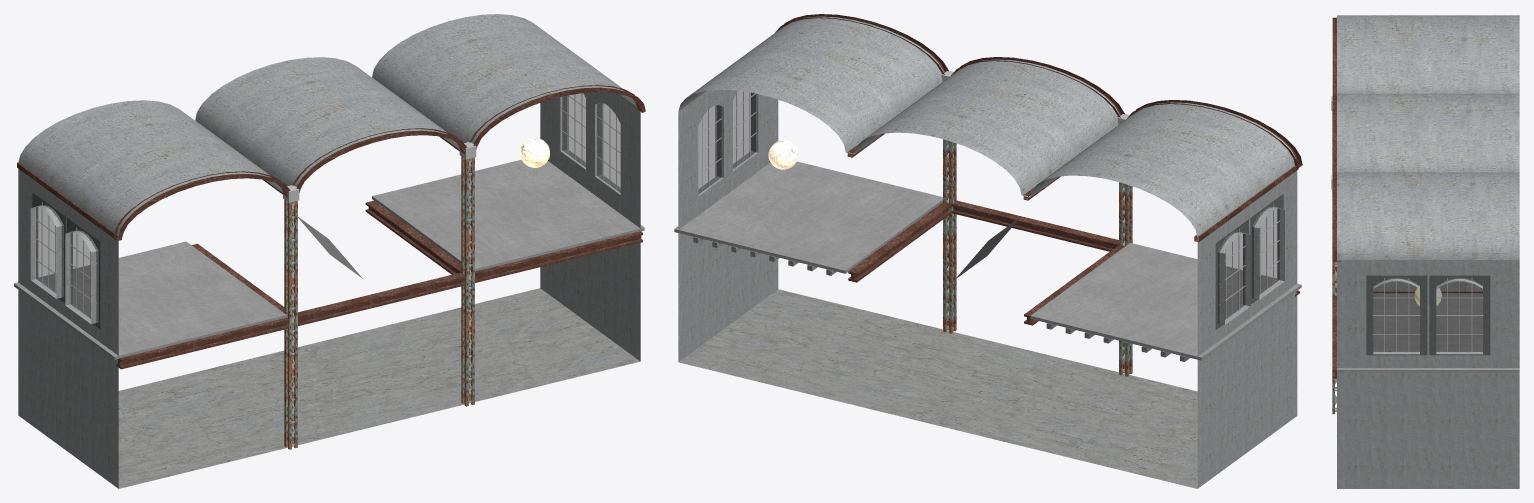
File: testwarehouse.fbx
The picture shows the model from 3 angles, left to right: view 1: azimuth 30°, elevation 25°; view 2: azimuth 150°, elevation 25°; view 3: azimuth 270°, elevation 25°; orthographic projection. The views are drawn at different scales.
Parts seen in each view (by area): view 1: Roof, Floor, Wall_left1, Floor_up_left, Wall_left, Floor_up_right, Pillar_corner4, Pillar_Cap2_Pillar_corner4, Crossbar_middle, crossbar_left1, crossbar_right1, windowGlass3 (+9 smaller); view 2: Roof, Floor, Wall_left1, Floor_up_left, Wall_left, Floor_up_right, Pillar_corner4, Crossbar_middle, windowGlass3, windowGlass4, crossbar_middle_side, windowGlass1 (+8 smaller); view 3: Roof, Wall_left, Floor_up_left, windowGlass1, windowGlass2, Floor, window_support_middle_v, window_support_middle_v1, Roof2, crossbar_right1, Roof6, Roof4 (+2 smaller).
Boxes of the visible parts, bbox=[...] form: Roof: bbox=[18, 14, 636, 236]; Floor: bbox=[118, 288, 639, 488]; Wall_left1: bbox=[18, 169, 118, 488]; Floor_up_left: bbox=[372, 159, 644, 271]; Wall_left: bbox=[540, 92, 640, 361]; Floor_up_right: bbox=[14, 241, 286, 359]; Pillar_corner4: bbox=[461, 156, 474, 406]; Pillar_Cap2_Pillar_corner4: bbox=[284, 199, 297, 449]; Crossbar_middle: bbox=[298, 272, 466, 326]; crossbar_left1: bbox=[116, 317, 289, 369]; crossbar_right1: bbox=[475, 231, 642, 282]; windowGlass3: bbox=[67, 218, 99, 328]; Roof: bbox=[678, 16, 1295, 238]; Floor: bbox=[679, 289, 1197, 488]; Wall_left1: bbox=[1197, 170, 1297, 488]; Floor_up_left: bbox=[674, 161, 942, 273]; Wall_left: bbox=[678, 89, 778, 361]; Floor_up_right: bbox=[1030, 243, 1301, 360]; Pillar_corner4: bbox=[943, 139, 956, 333]; Crossbar_middle: bbox=[951, 200, 1118, 251]; windowGlass3: bbox=[1250, 194, 1283, 303]; windowGlass4: bbox=[1216, 219, 1248, 329]; crossbar_middle_side: bbox=[848, 202, 951, 282]; windowGlass1: bbox=[698, 105, 721, 193]; Roof: bbox=[1337, 15, 1519, 259]; Wall_left: bbox=[1337, 260, 1519, 488]; Floor_up_left: bbox=[1337, 293, 1519, 372]; windowGlass1: bbox=[1429, 276, 1489, 354]; windowGlass2: bbox=[1366, 276, 1426, 354]; Floor: bbox=[1373, 281, 1482, 291]; window_support_middle_v: bbox=[1372, 278, 1420, 351]; window_support_middle_v1: bbox=[1436, 278, 1483, 351]; Roof2: bbox=[1332, 174, 1340, 261]; crossbar_right1: bbox=[1332, 295, 1336, 378]; Roof6: bbox=[1332, 96, 1336, 174]; Roof4: bbox=[1332, 17, 1336, 95].
Size of the model in its own units: 9.26 by 4.78 by 3.09.
